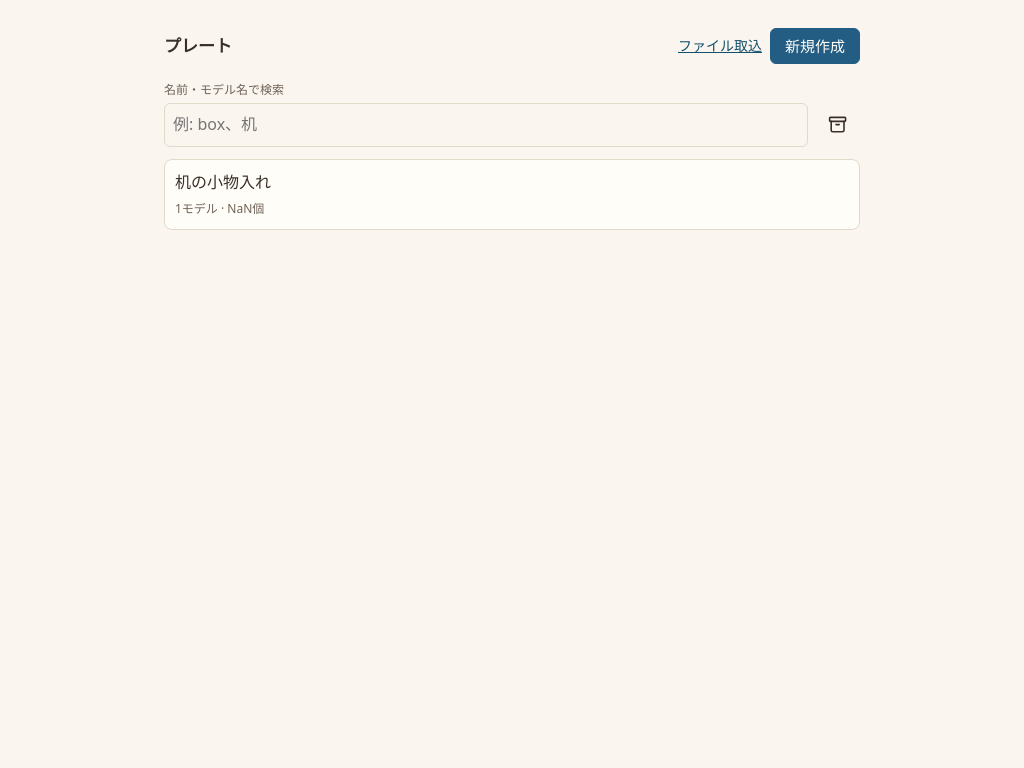
it: archives from the row menu without confirmation and reports it
Right-click the link "机の小物入れ": coordinates (223, 182) [164,159,860,230]
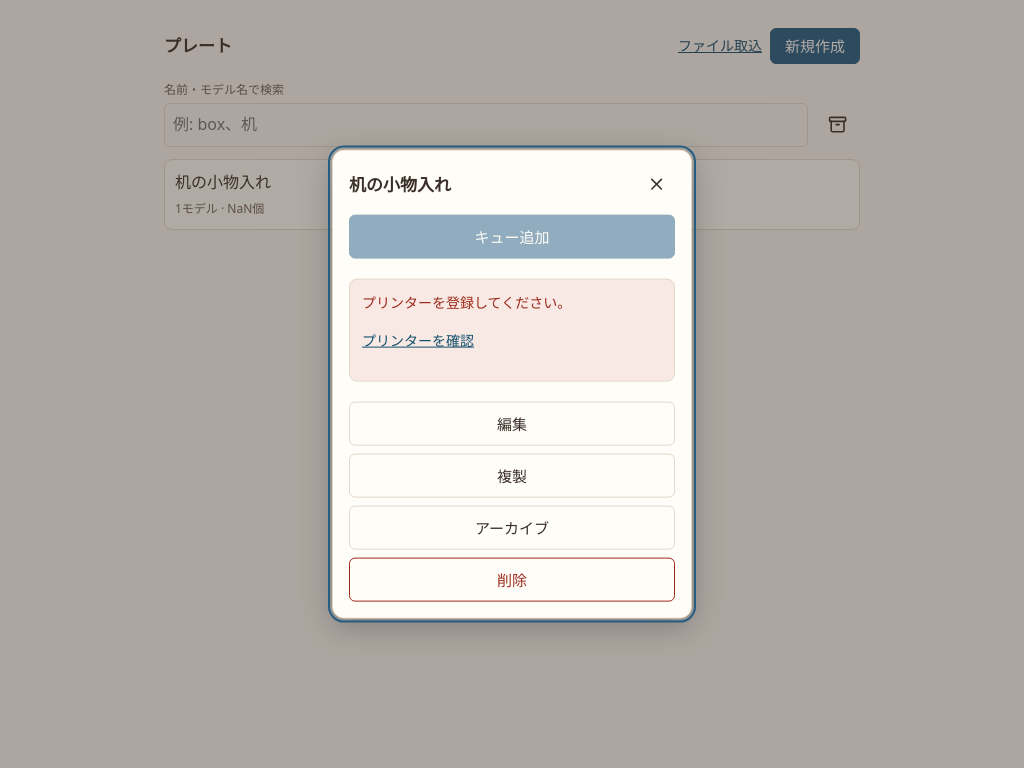
Click the button "アーカイブ": coordinates (512, 527) [349,505,675,549]
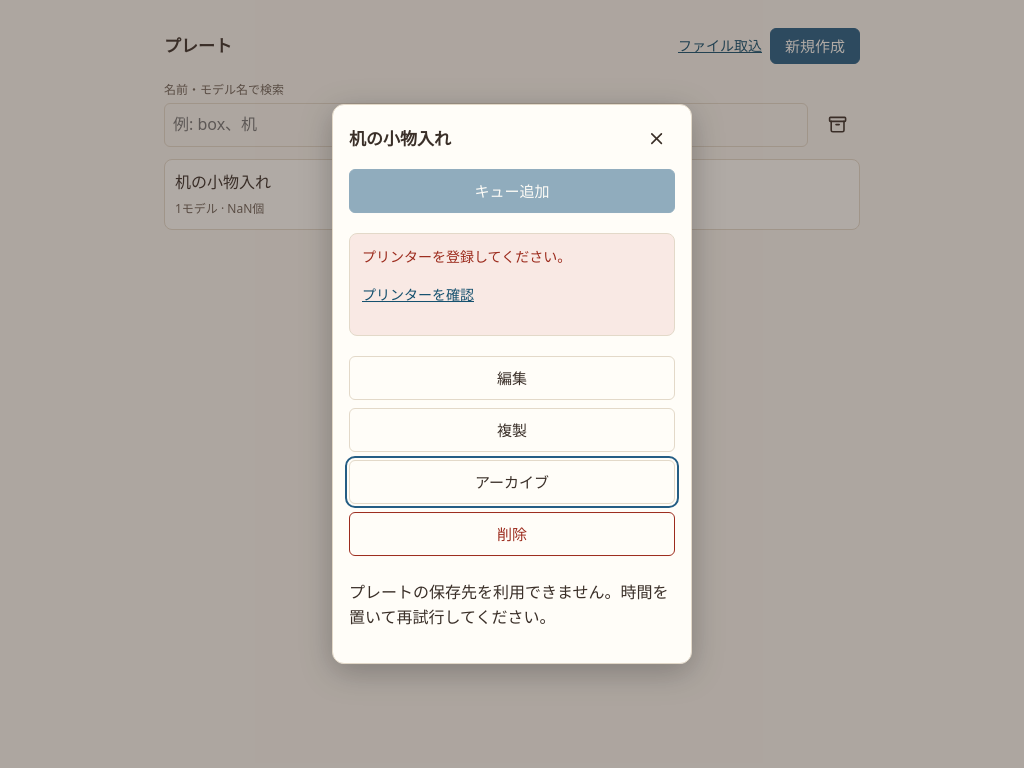
Expected: the message "プレートの保存先を利用できません。時間を置いて再試行してください。" is shown, [349,580,675,631]
Click the button "アーカイブ": coordinates (512, 482) [349,460,675,504]
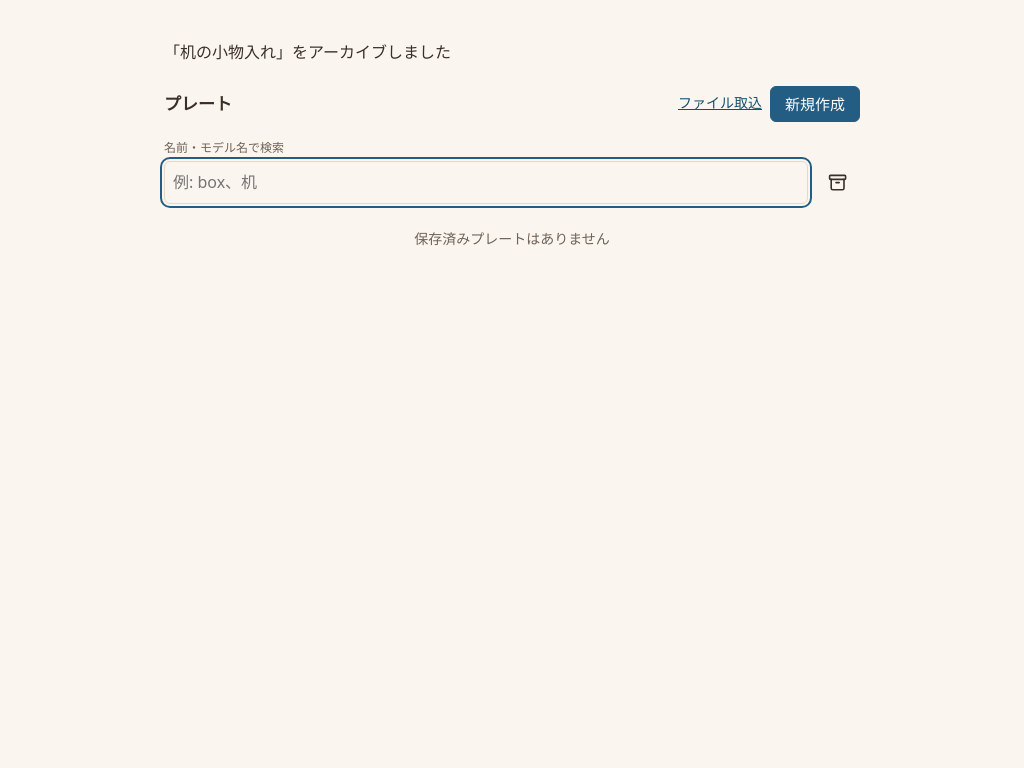
Expected: the message reads "「机の小物入れ」をアーカイブしました", [164,41,451,63]
Expected: the dialog is gone
